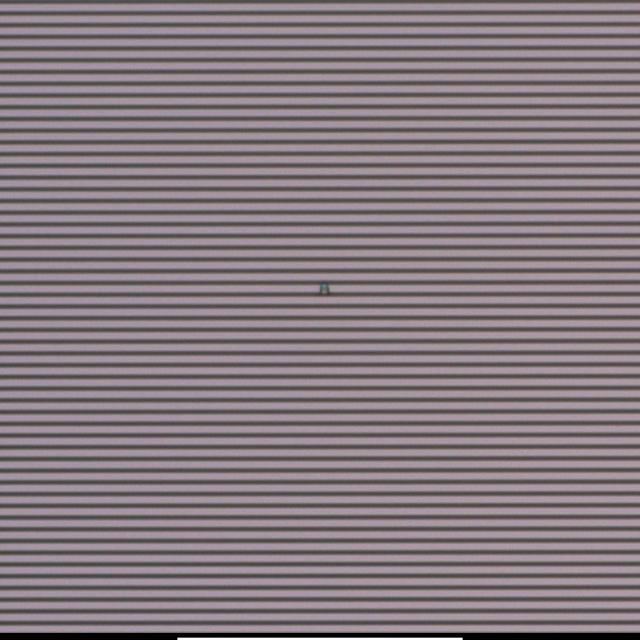03_intrusion: (317, 278, 332, 298)
